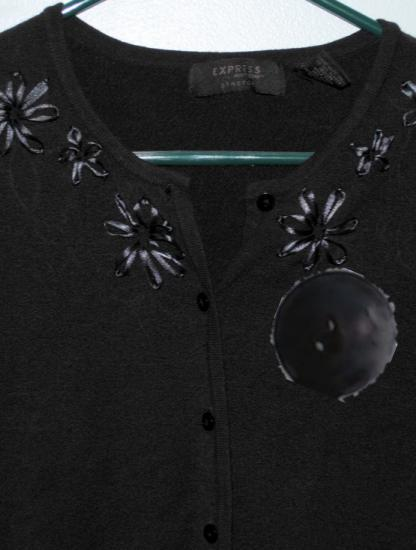Grape: (273, 269, 398, 394)
